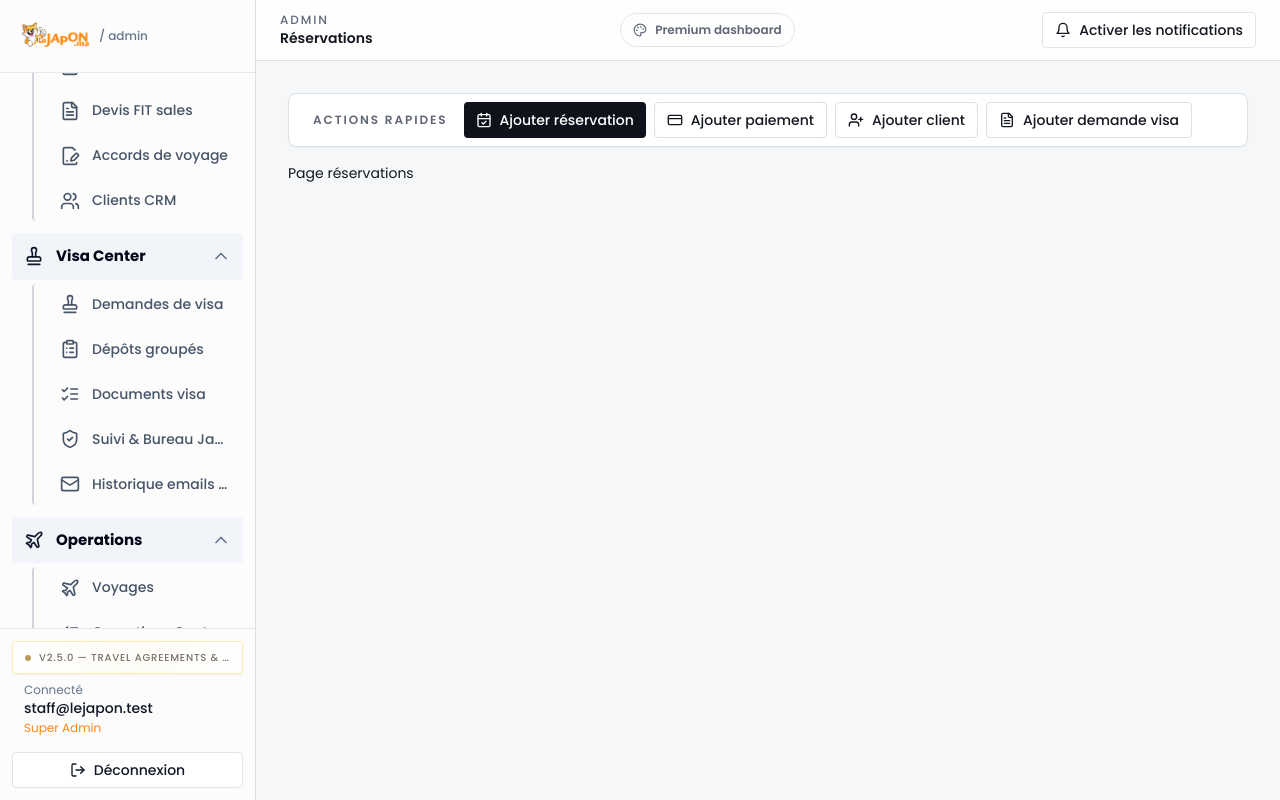
Test case: AdminLayout persistent navigation › keeps the sidebar mounted, its scroll position and active navigation while a lazy page loads
Later steps or results of the test are not shown.
(page scrolled)
Click the link "Clients CRM": (118, 200) x1=60 y1=190 x2=176 y2=210
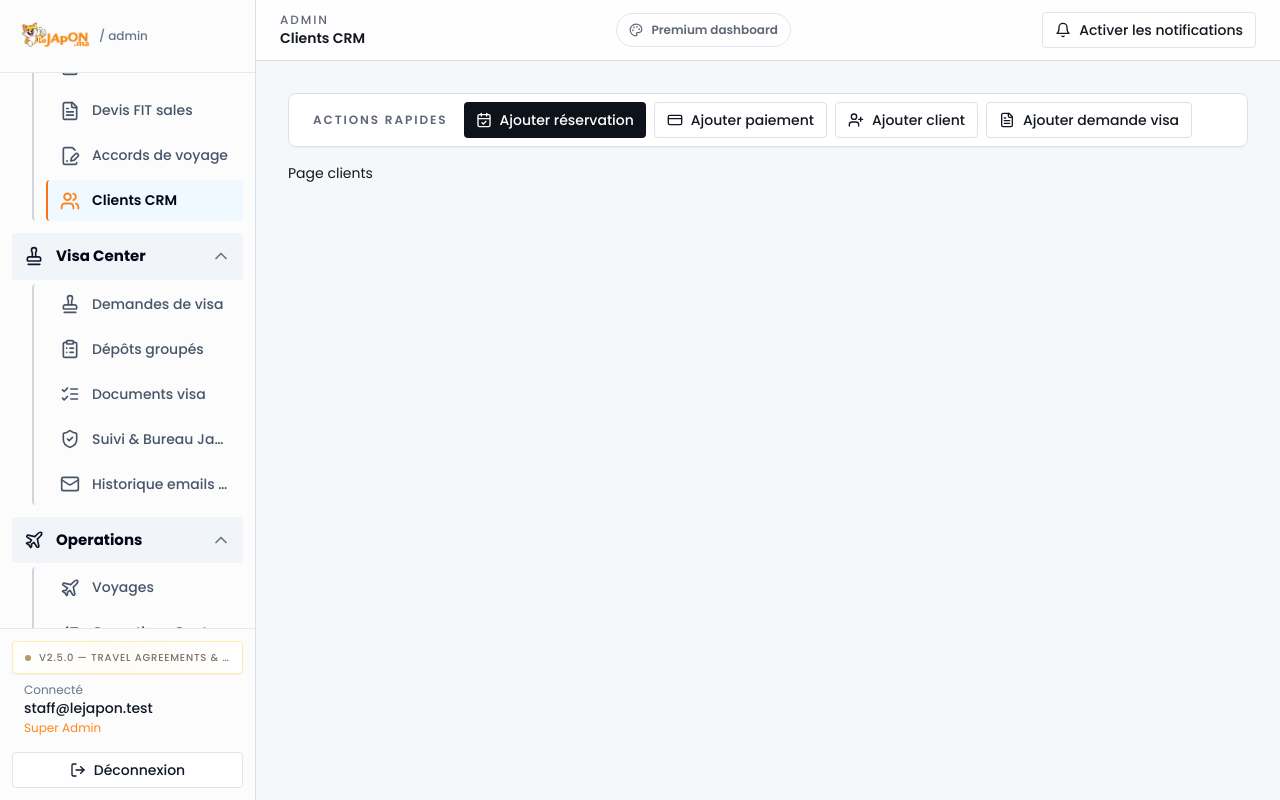
Check: the text "Page clients" is shown, box x1=288 y1=163 x2=373 y2=183
